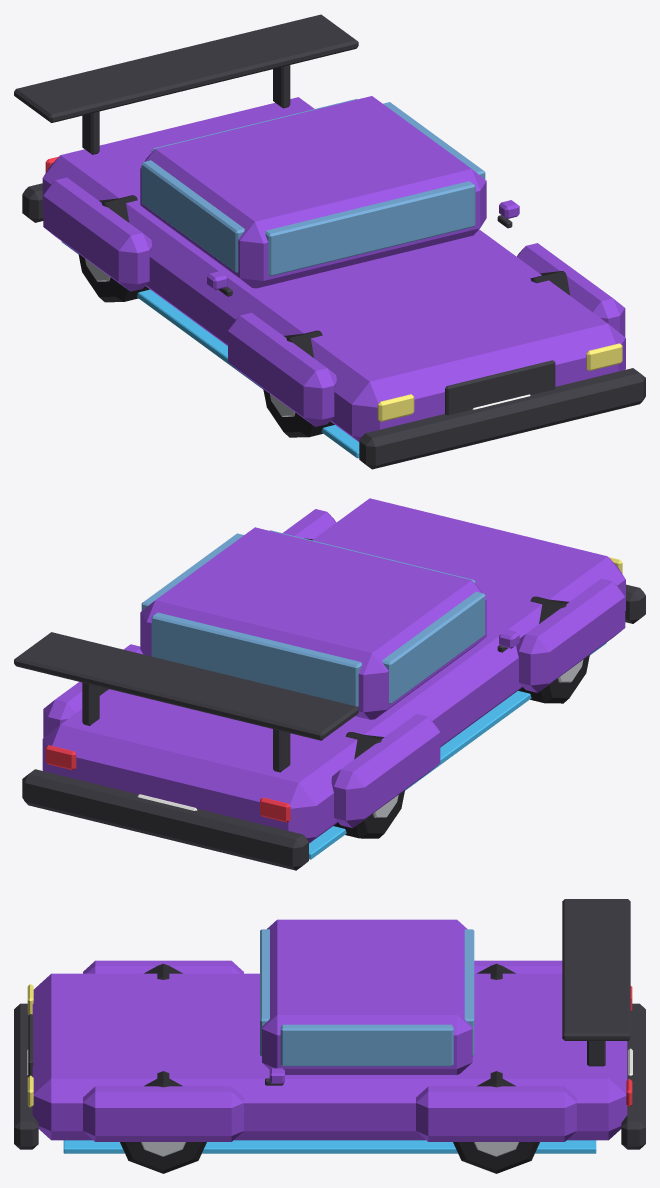
Rendered from DriftCar.fbx.
The picture shows the model from 3 angles, top to bottom: view 1: azimuth 30°, elevation 25°; view 2: azimuth 150°, elevation 25°; view 3: azimuth 270°, elevation 25°; orthographic projection. The views are drawn at different scales.
Parts seen in each view (by area): view 1: DriftCar, DriftCar_WheelBR, DriftCar_WheelFR; view 2: DriftCar, DriftCar_WheelFR, DriftCar_WheelBR; view 3: DriftCar, DriftCar_WheelBL, DriftCar_WheelFL.
Boxes of the visible parts, x1,y1,x2,y2 form: DriftCar: [14, 14, 645, 469]; DriftCar_WheelBR: [78, 195, 149, 302]; DriftCar_WheelFR: [263, 330, 334, 437]; DriftCar: [14, 498, 645, 870]; DriftCar_WheelFR: [518, 596, 589, 703]; DriftCar_WheelBR: [334, 732, 404, 838]; DriftCar: [14, 899, 645, 1153]; DriftCar_WheelBL: [453, 1071, 539, 1173]; DriftCar_WheelFL: [120, 1071, 206, 1173].
Size of the model in its own units: 5.4 by 2.63 by 10.2.
Materials: 1 (1 with a texture image).
